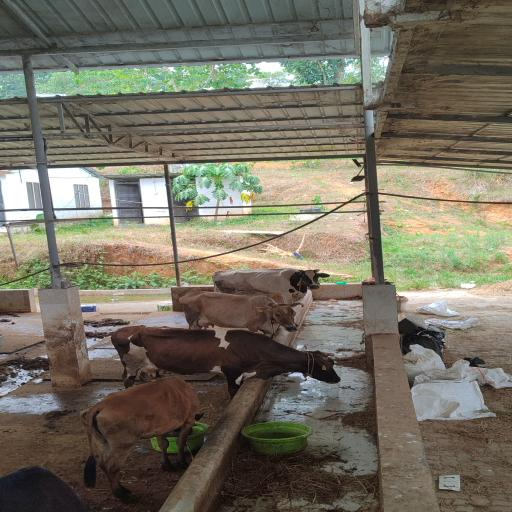cow-feeding: (112, 328, 340, 398)
cow-standing: (81, 377, 203, 502), (180, 292, 300, 335), (213, 269, 329, 303)
